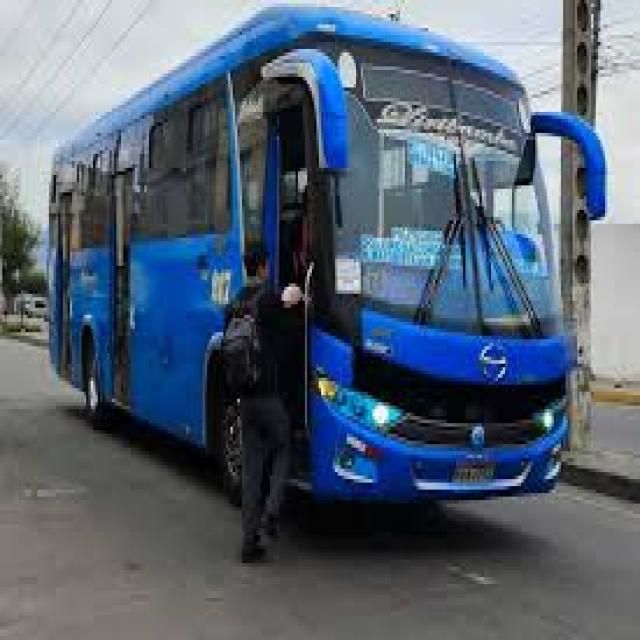BUS: (43, 1, 584, 542)
